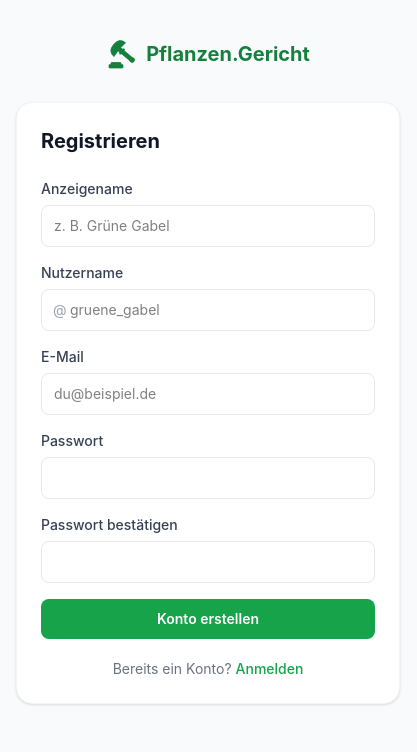
Test: RegisterView › given the passwords differ › shows an error and does not sign up
The width and height of the screenshot is (417, 752).
In the field with id "username": (208, 310) x1=41 y1=289 x2=375 y2=331, type "valid_name"
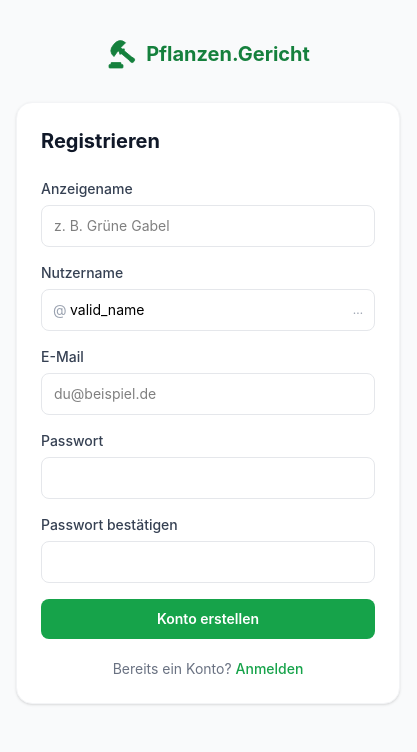
In the password field labelled "Passwort": (208, 478) x1=41 y1=457 x2=375 y2=499, type "password-one"
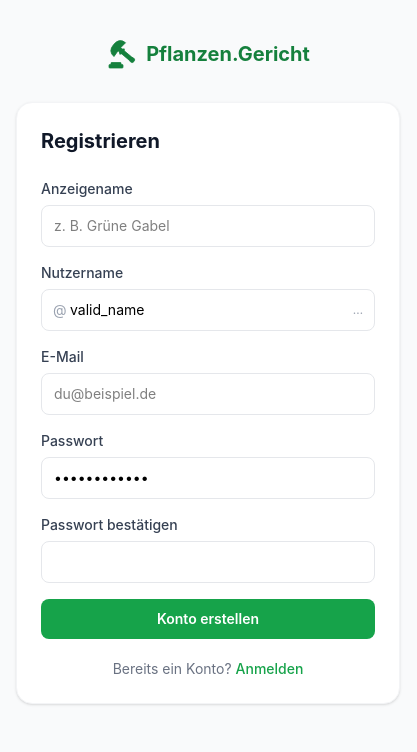
In the password field labelled "Passwort bestätigen": (208, 562) x1=41 y1=541 x2=375 y2=583, type "password-two"
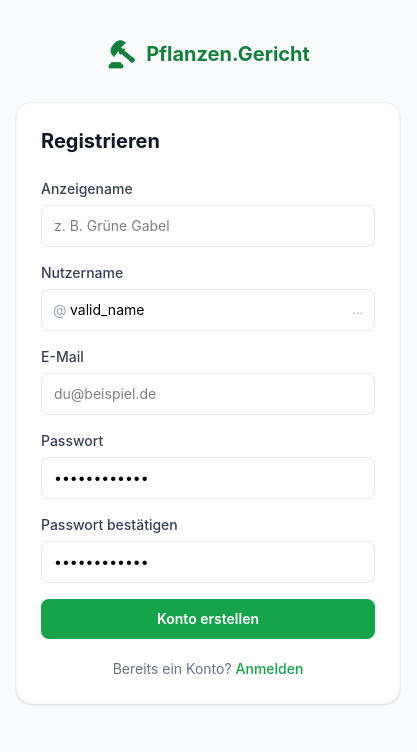
Submit the form, box x1=41 y1=179 x2=375 y2=639
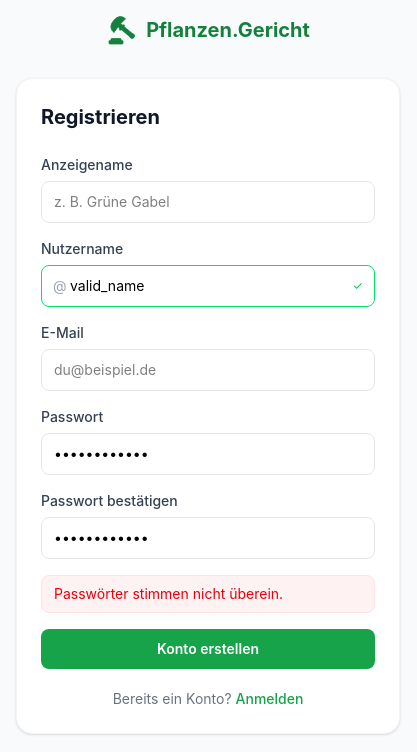
Check: the text "stimmen nicht" is shown, box x1=54 y1=585 x2=283 y2=602
